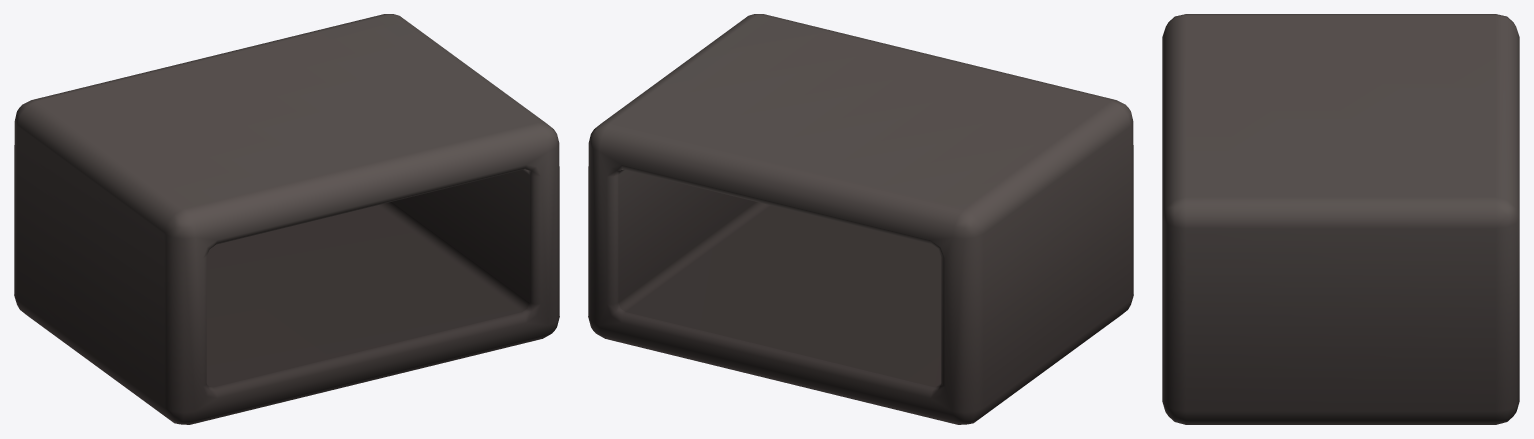
File: Coffee_Table_05.glb
3 views of the same model, side by side, from view 1: azimuth 30°, elevation 25°; view 2: azimuth 150°, elevation 25°; view 3: azimuth 270°, elevation 25° (orthographic). The views are drawn at different scales.
Parts seen in each view (by area): view 1: Coffee_Table_05; view 2: Coffee_Table_05; view 3: Coffee_Table_05.
Part boxes in pixels (x1,y1,x2,y2): Coffee_Table_05: (14,14,559,424); Coffee_Table_05: (588,14,1133,424); Coffee_Table_05: (1162,14,1519,424).
Size of the model in its own units: 0.8 by 0.4182 by 0.6.
1 material, 1 textured.
